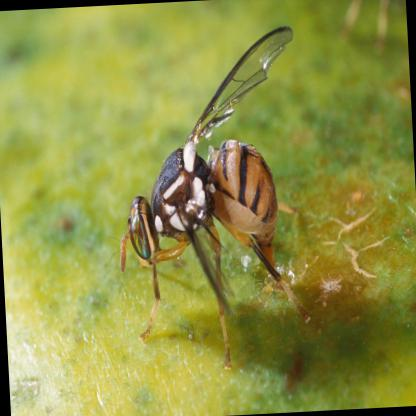fruit fly: (118, 24, 306, 367)
